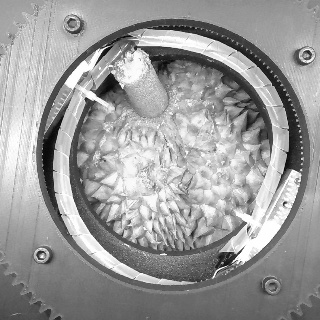base: (124, 83, 181, 129)
end: (116, 49, 148, 85)
